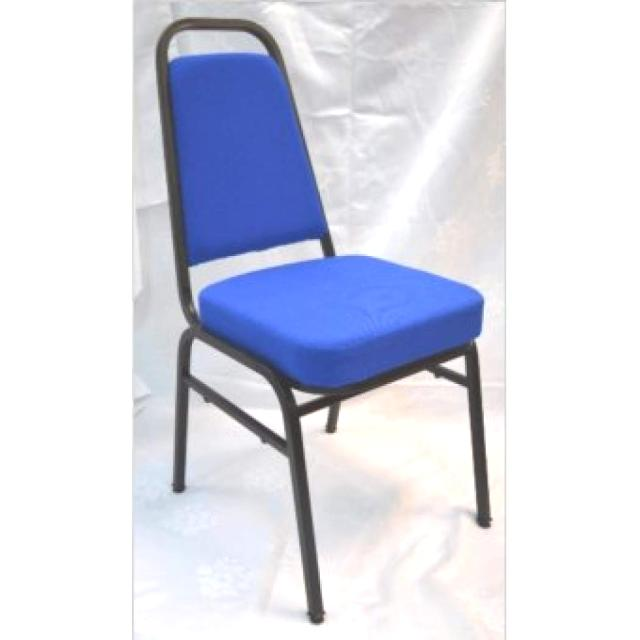Chair: (153, 13, 501, 627)
